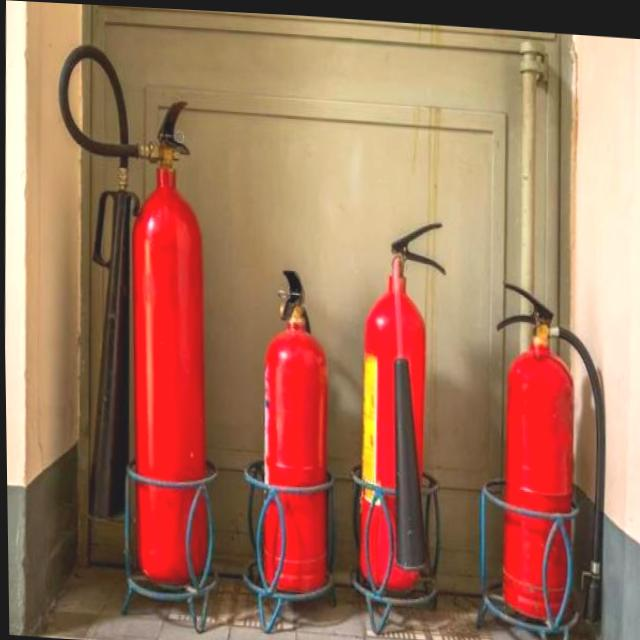FireExtinguisher: (43, 36, 223, 593), (487, 268, 610, 627), (347, 208, 450, 598), (250, 252, 335, 592)
